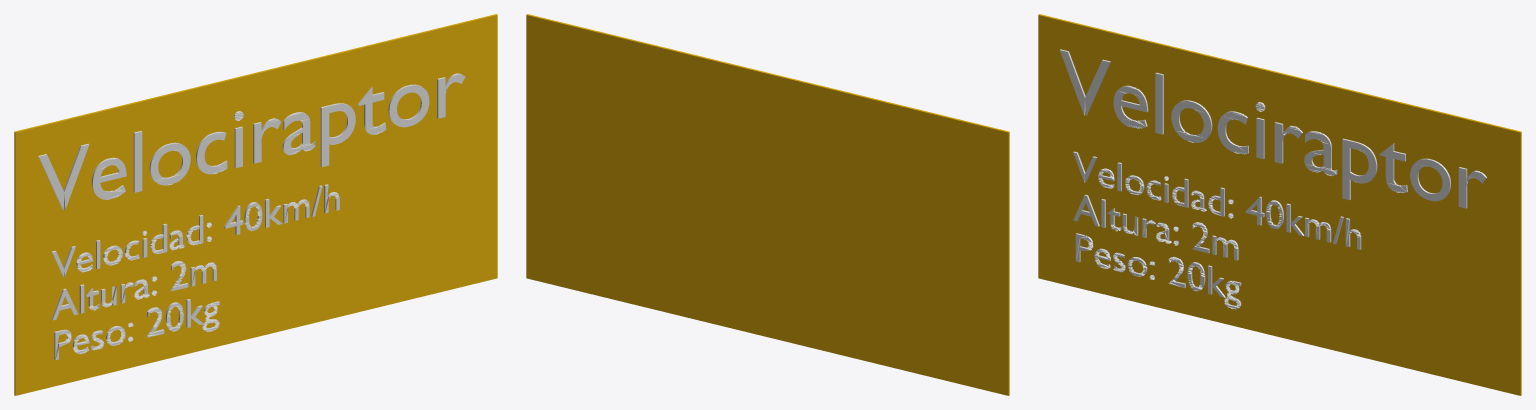
File: PlacaOroVelociraptor.fbx
3 views of the same model, side by side, from view 1: azimuth 30°, elevation 25°; view 2: azimuth 150°, elevation 25°; view 3: azimuth 330°, elevation 25° (orthographic).
Visible parts, largest first — view 1: Cube, Text, Text.001; view 2: Cube; view 3: Cube, Text, Text.001.
Boxes of the visible parts, x1=… form: Cube: x1=14, y1=14, x2=497, y2=395; Text: x1=38, y1=73, x2=465, y2=210; Text.001: x1=51, y1=184, x2=339, y2=360; Cube: x1=526, y1=14, x2=1009, y2=395; Cube: x1=1038, y1=14, x2=1521, y2=395; Text: x1=1060, y1=49, x2=1486, y2=208; Text.001: x1=1073, y1=151, x2=1361, y2=309.
Size of the model in its own units: 1.26 by 0.6577 by 0.011.
